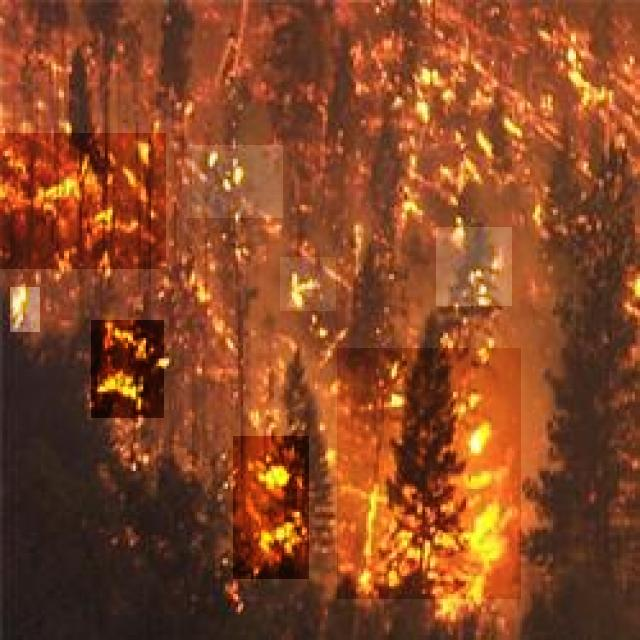Fire: (337, 348, 521, 599), (391, 54, 624, 227), (0, 133, 166, 269), (233, 436, 309, 579), (91, 321, 164, 418), (187, 145, 283, 218), (436, 216, 512, 306), (280, 257, 336, 311), (441, 149, 506, 194), (10, 287, 40, 332)
